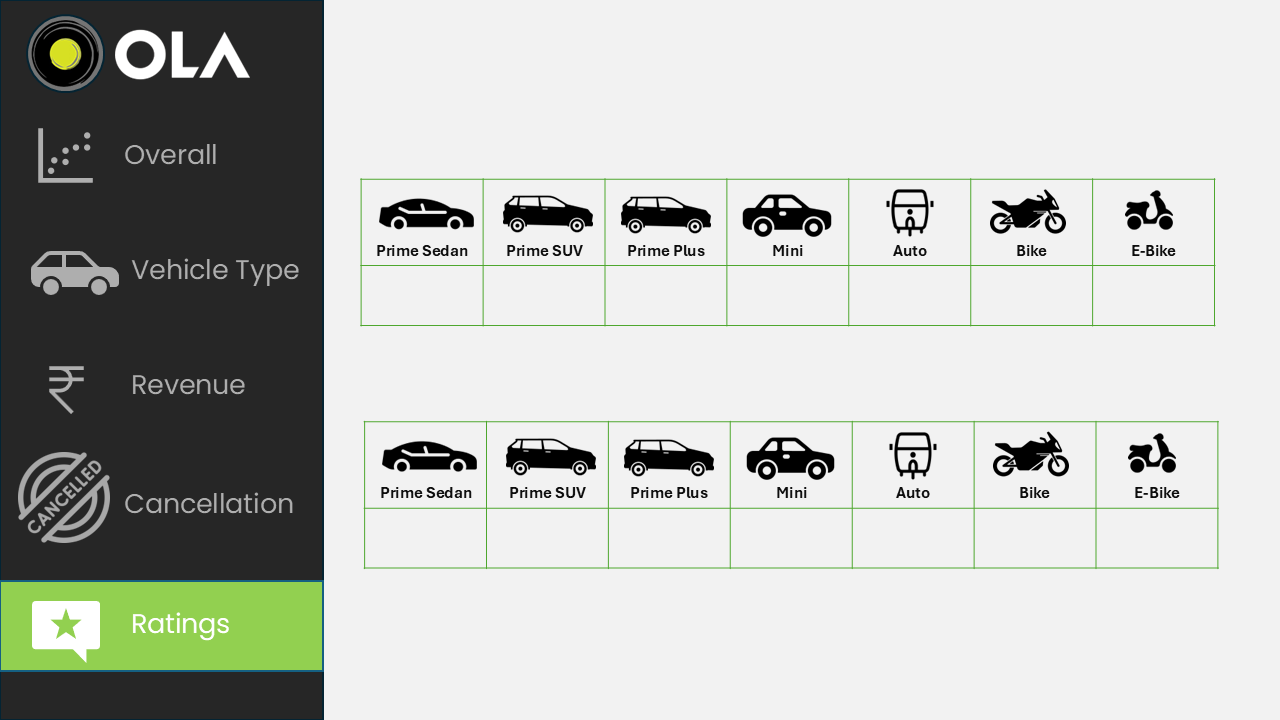

Layout of this report page (visuals, bound fields, positions):
{"tool":"powerbi","page":{"name":"Ratings","canvas":[1280,720],"ordinal":4},"visuals":[{"type":"actionButton","box":[0,222.5,323.9,91.5],"z":0},{"type":"actionButton","box":[0,337.7,323.2,91.4],"z":1000},{"type":"actionButton","box":[0,450.3,323.1,91.4],"z":2000},{"type":"actionButton","box":[0,107.3,323.2,91.4],"z":3000},{"type":"card","fields":{"Values":["Avg(December.Driver_Ratings)"]},"box":[358.4,262.5,127.8,61.6],"z":4000},{"type":"card","fields":{"Values":["Avg(December.Driver_Ratings)"]},"box":[482.1,262.2,124.5,62.2],"z":5000},{"type":"card","fields":{"Values":["Avg(December.Driver_Ratings)"]},"box":[603.9,262.2,124.5,62.2],"z":6000},{"type":"card","fields":{"Values":["Avg(December.Driver_Ratings)"]},"box":[724.3,260.6,124.7,62.4],"z":7000},{"type":"card","fields":{"Values":["Avg(December.Driver_Ratings)"]},"box":[847.6,262.2,124.5,62.2],"z":8000},{"type":"card","fields":{"Values":["Avg(December.Driver_Ratings)"]},"box":[969,260.6,124.7,62.4],"z":9000},{"type":"card","fields":{"Values":["Avg(December.Driver_Ratings)"]},"box":[1092.1,260.6,123.1,62.4],"z":10000},{"type":"slicer","title":"Date","fields":{"Values":["December.Date"]},"box":[931.1,17.2,311.2,136.4],"z":11000},{"type":"shape","box":[347.6,97.1,278.6,70.4],"z":12000},{"type":"shape","box":[347.6,337.8,278.6,70.4],"z":13000},{"type":"card","fields":{"Values":["CountNonNull(December.Vehicle_Type)"]},"box":[364.2,505.9,123.2,60.9],"z":14000},{"type":"card","fields":{"Values":["CountNonNull(December.Vehicle_Type)"]},"box":[486.1,505.9,123.2,60.9],"z":15000},{"type":"card","fields":{"Values":["CountNonNull(December.Vehicle_Type)"]},"box":[607.9,505.9,123.2,60.9],"z":16000},{"type":"card","fields":{"Values":["CountNonNull(December.Vehicle_Type)"]},"box":[729.7,505.9,123.2,60.9],"z":17000},{"type":"card","fields":{"Values":["CountNonNull(December.Vehicle_Type)"]},"box":[851.6,505.9,123.2,60.9],"z":18000},{"type":"card","fields":{"Values":["CountNonNull(December.Vehicle_Type)"]},"box":[973.4,505.9,123.2,60.9],"z":19000},{"type":"card","fields":{"Values":["CountNonNull(December.Vehicle_Type)"]},"box":[1096.6,505.9,123.2,60.9],"z":20000}]}

Visuals, with their boxes on the page's 1280x720 design canvas (x1, y1, x2, y2). These are canvas units, not pixel positions in the 1280x720 screenshot, which may show the page scaled, cropped or inside an application window:
actionButton: 0,222,324,314
actionButton: 0,338,323,429
actionButton: 0,450,323,542
actionButton: 0,107,323,199
card - Avg(December.Driver_Ratings): 358,262,486,324
card - Avg(December.Driver_Ratings): 482,262,607,324
card - Avg(December.Driver_Ratings): 604,262,728,324
card - Avg(December.Driver_Ratings): 724,261,849,323
card - Avg(December.Driver_Ratings): 848,262,972,324
card - Avg(December.Driver_Ratings): 969,261,1094,323
card - Avg(December.Driver_Ratings): 1092,261,1215,323
"Date" slicer: 931,17,1242,154
shape: 348,97,626,168
shape: 348,338,626,408
card - CountNonNull(December.Vehicle_Type): 364,506,487,567
card - CountNonNull(December.Vehicle_Type): 486,506,609,567
card - CountNonNull(December.Vehicle_Type): 608,506,731,567
card - CountNonNull(December.Vehicle_Type): 730,506,853,567
card - CountNonNull(December.Vehicle_Type): 852,506,975,567
card - CountNonNull(December.Vehicle_Type): 973,506,1097,567
card - CountNonNull(December.Vehicle_Type): 1097,506,1220,567
